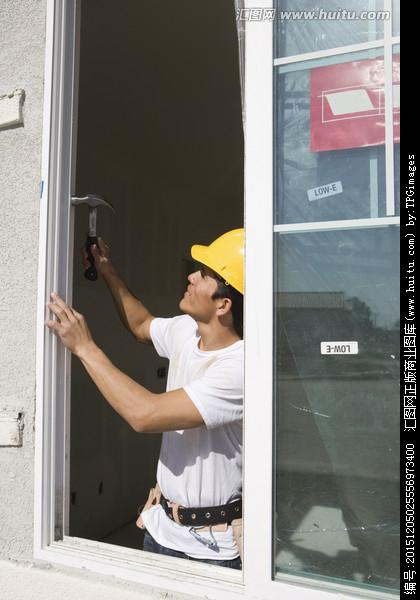helmet: (189, 226, 261, 295)
